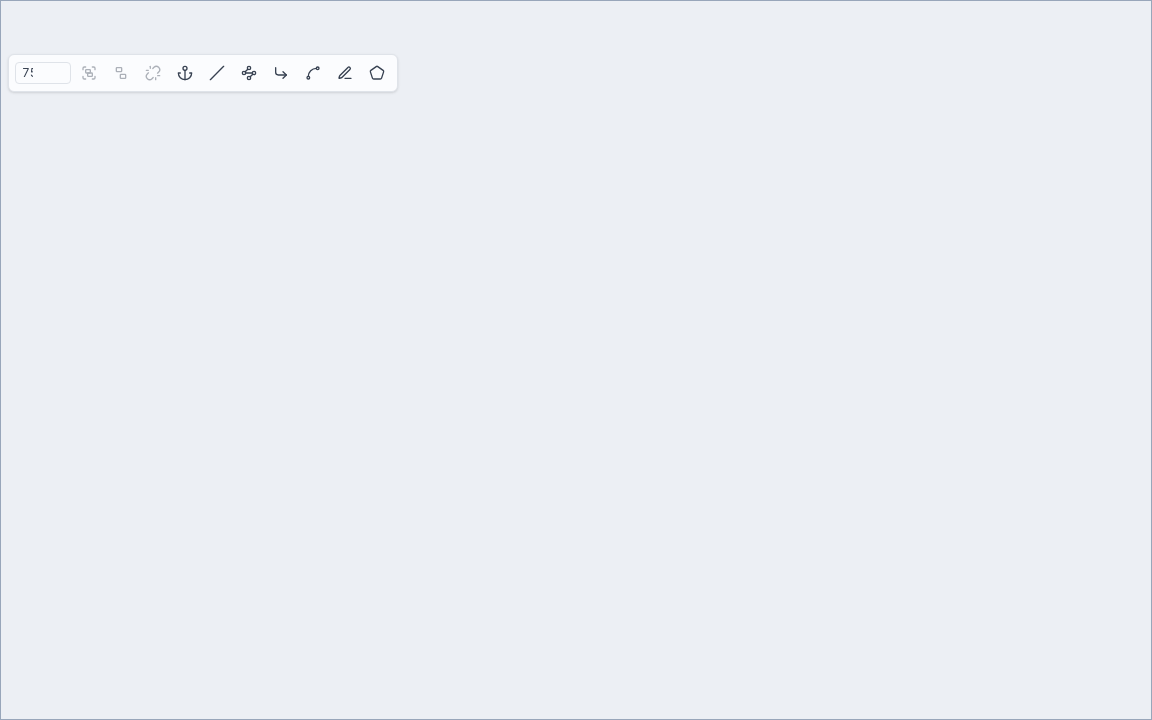
Test: 만든 것이 곧바로 선택된다 (AC-59) › 선택 키가 **평평하다** — 구분자가 없다 (AC-66 · 009 의 선택 모델 불변)
Click the button named "dashboard.canvas.edit.toolStraight" at (217, 73), box [203,59,231,87]
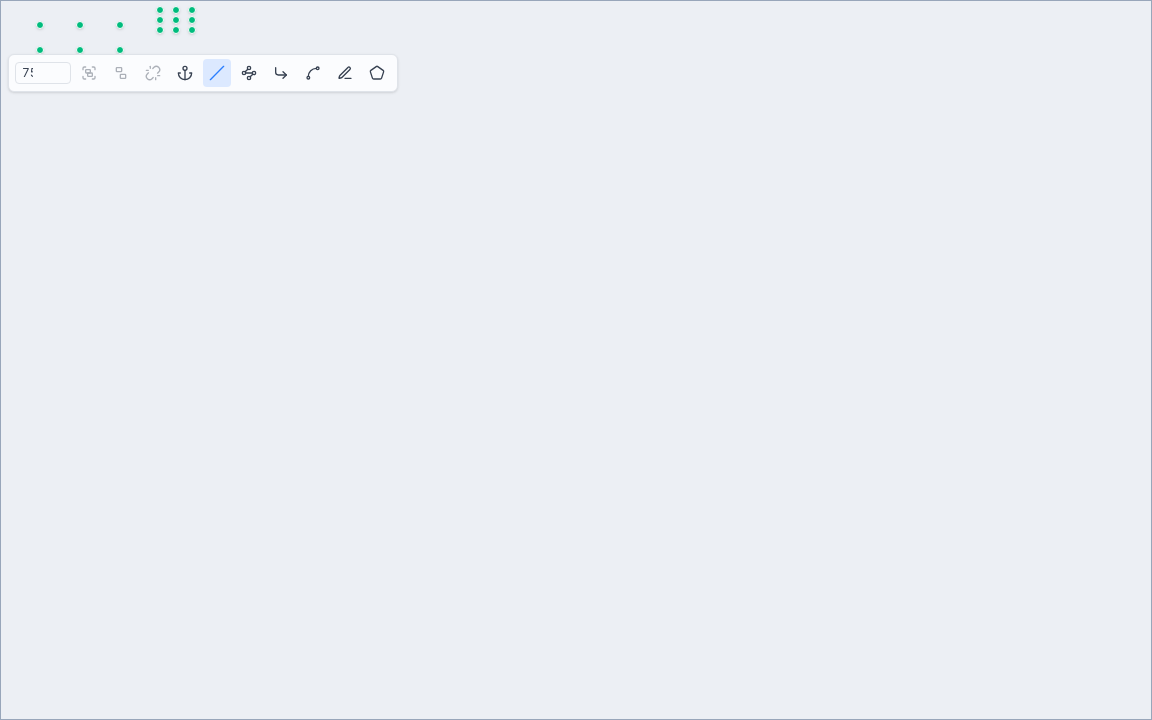
Press the mouse on the element with test id "canvas-edit-overlay" at (576, 360), box [0,0,1151,719]
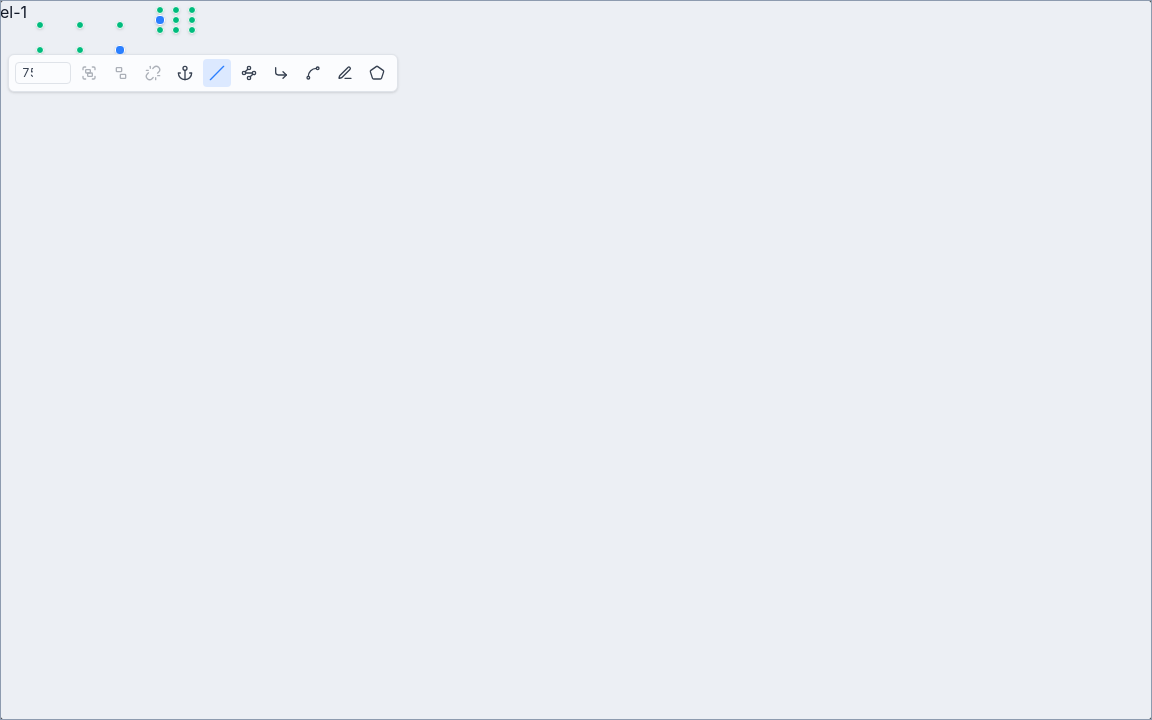
Expected: the text with test id "selection" reads "el-1", [0,2,27,22]
